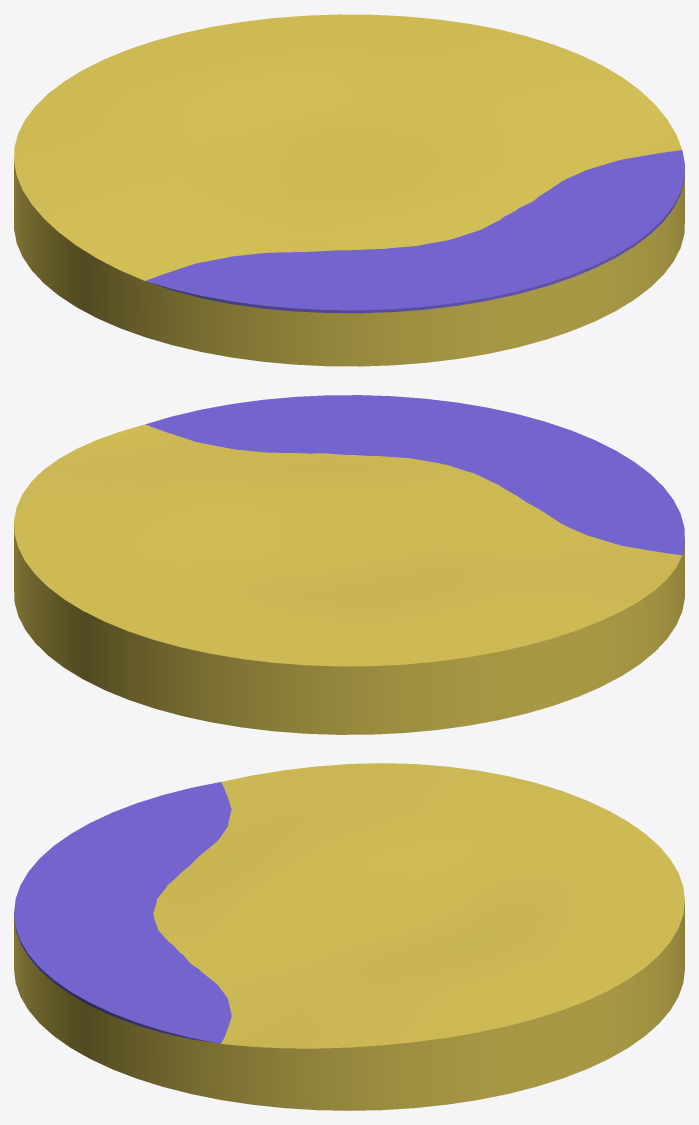
File: Biome_Beach_LD.glb
3 views of the same model, one above another, from view 1: azimuth 30°, elevation 25°; view 2: azimuth 150°, elevation 25°; view 3: azimuth 270°, elevation 25° (orthographic).
Parts seen in each view (by area): view 1: Circle.006-0, Circle.006-1; view 2: Circle.006-0, Circle.006-1; view 3: Circle.006-0, Circle.006-1.
Part boxes in pixels (left/top/right/bottom): Circle.006-0: left=14, top=14, right=684, bottom=366; Circle.006-1: left=145, top=150, right=684, bottom=313; Circle.006-0: left=14, top=424, right=684, bottom=734; Circle.006-1: left=145, top=395, right=684, bottom=555; Circle.006-0: left=14, top=763, right=684, bottom=1110; Circle.006-1: left=14, top=782, right=231, bottom=1043.
Bounding box in the file's own units: 12.19 × 1.37 × 12.19.
